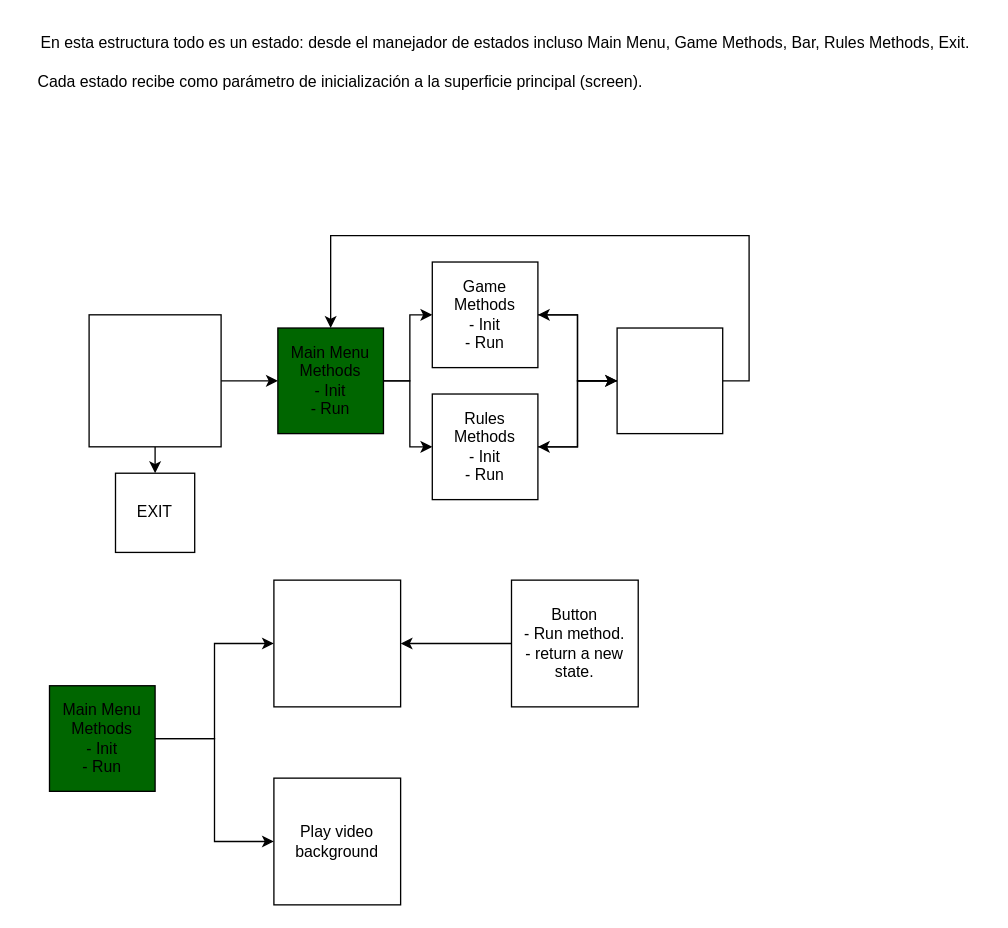
The diagram is 1008 pixels wide and 928 high, and some of its shapes have lost their labels. The shapes that lost their labels are listed below. From the top down, each one's centre as x and y in pixels, then its label:
At point (154, 380): "State Manager - Create new state. - Run -Delete state - Change state".
At point (669, 380): "Bar Methods - Init - Run".
At point (337, 643): "ButtonManager - Instance buttons - save a list of button".
